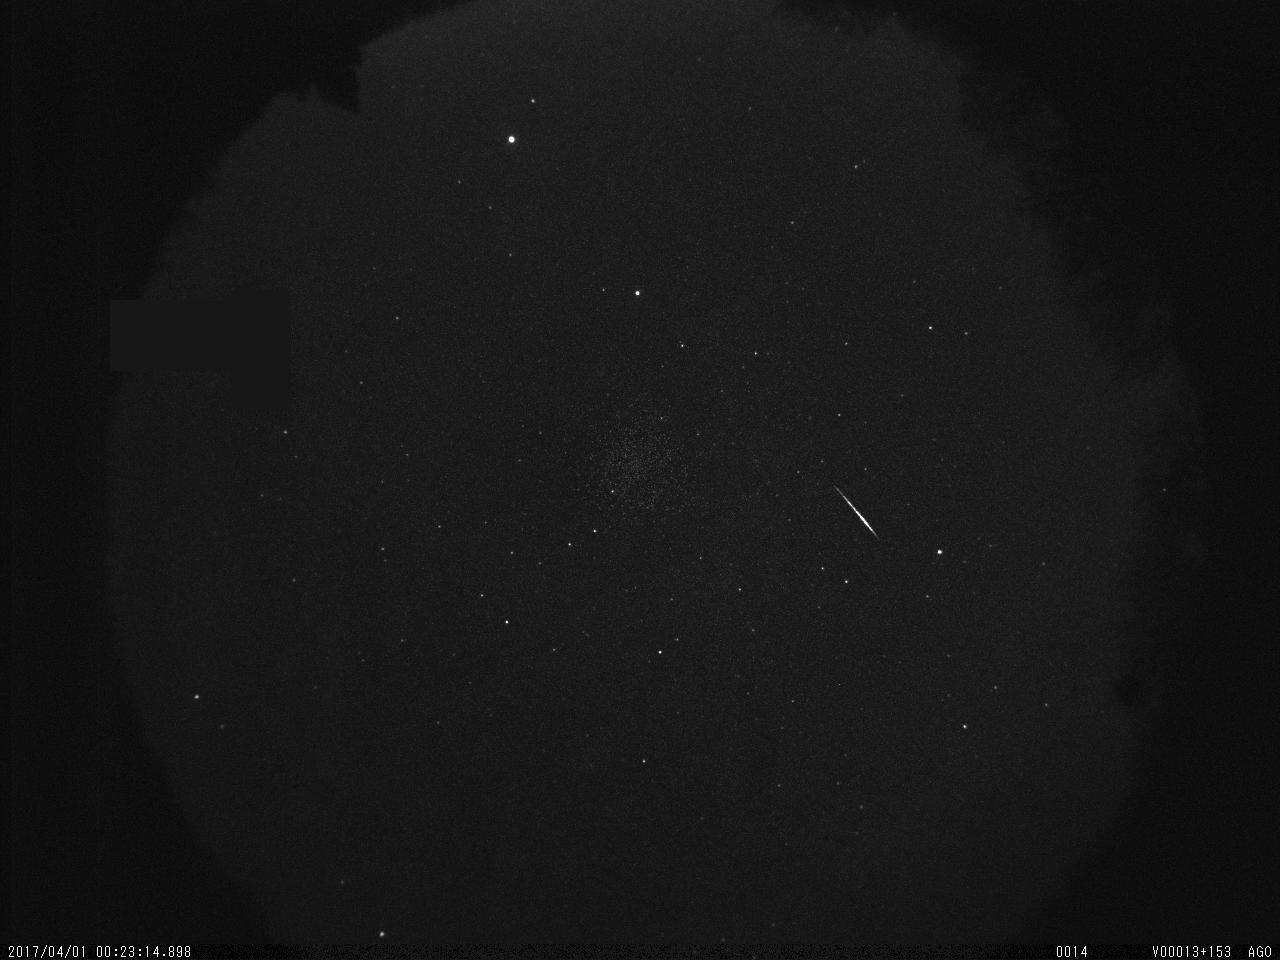meteor: (827, 482, 881, 539)
